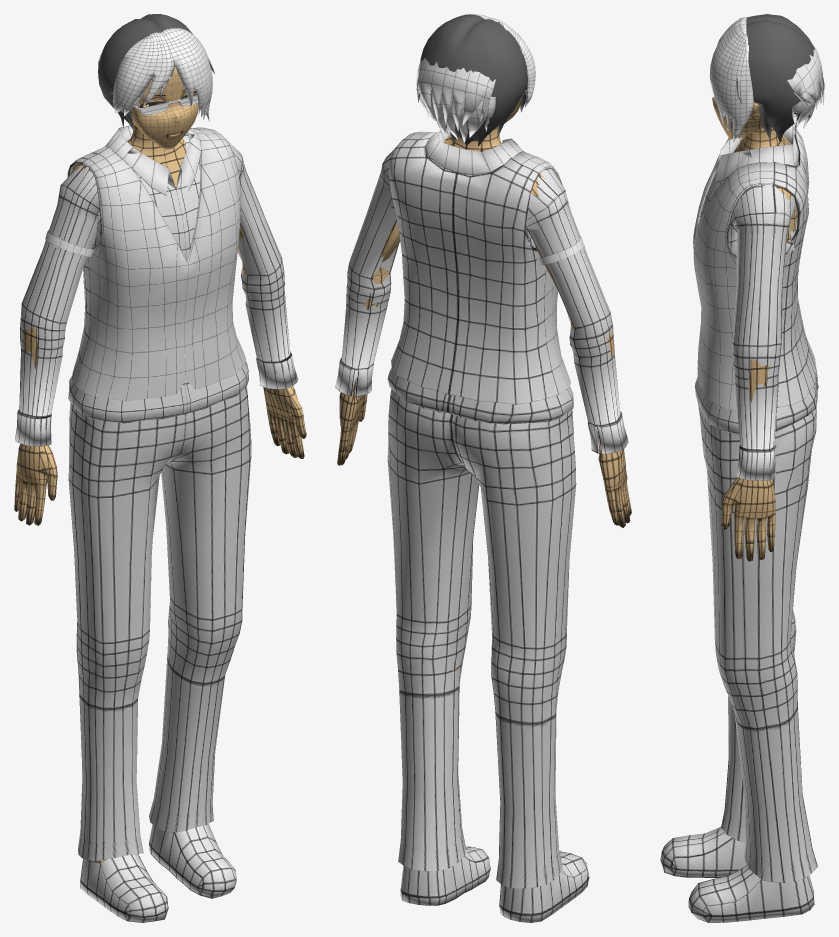
The model's file is walk_man.obj.
3 views of the same model, side by side, from view 1: azimuth 30°, elevation 25°; view 2: azimuth 150°, elevation 25°; view 3: azimuth 270°, elevation 25° (orthographic). The views are drawn at different scales.
Visible parts, largest first — view 1: pants, vest, shirt, body, front_hair, head, back_hair, glasses; view 2: pants, vest, shirt, back_hair, front_hair, body; view 3: pants, shirt, vest, back_hair, front_hair, body, head.
Boxes of the visible parts, x1,y1,x2,y2 form: pants: (68, 386, 251, 922); vest: (67, 127, 246, 400); shirt: (15, 125, 298, 446); body: (14, 123, 306, 862); front_hair: (98, 28, 215, 121); head: (121, 66, 198, 149); back_hair: (98, 14, 192, 128); glasses: (45, 94, 197, 257); pants: (387, 389, 589, 922); vest: (388, 131, 570, 404); shirt: (335, 127, 628, 454); back_hair: (420, 14, 527, 146); front_hair: (416, 14, 535, 143); body: (337, 125, 631, 671); pants: (660, 405, 817, 922); shirt: (695, 125, 818, 480); vest: (693, 125, 816, 410); back_hair: (746, 14, 814, 142); front_hair: (709, 17, 824, 141); body: (721, 127, 797, 561); head: (712, 97, 762, 139).
Size of the model in its own units: 0.5938 by 1.75 by 0.2963.
